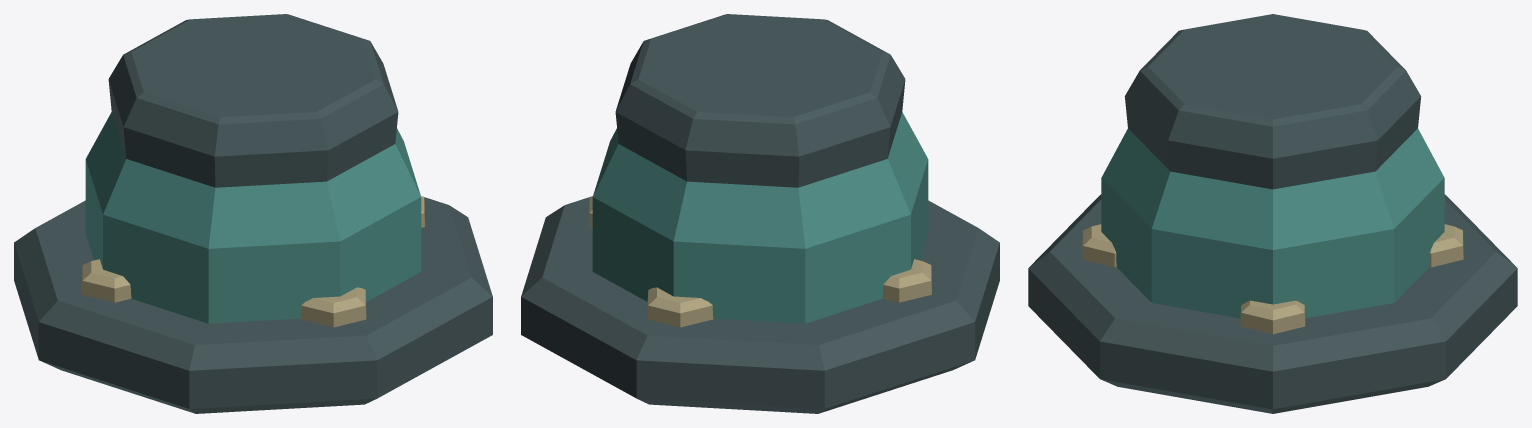
File: w8a-climb-ladder-shoe.glb
The picture shows the model from 3 angles, left to right: view 1: azimuth 30°, elevation 25°; view 2: azimuth 150°, elevation 25°; view 3: azimuth 270°, elevation 25°; orthographic projection.
Parts seen in each view (by area): view 1: Single Climb Yard ladder shoe; view 2: Single Climb Yard ladder shoe; view 3: Single Climb Yard ladder shoe.
Part boxes in pixels (<box>): Single Climb Yard ladder shoe: <box>14,14,492,413</box>; Single Climb Yard ladder shoe: <box>521,14,999,413</box>; Single Climb Yard ladder shoe: <box>1028,14,1517,413</box>.
Size of the model in its own units: 0.294 by 0.1685 by 0.294.
